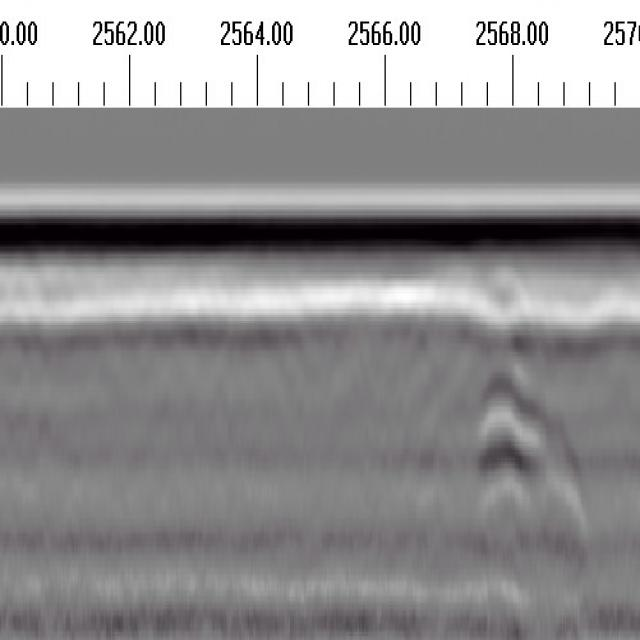loose: (475, 279, 586, 547)
